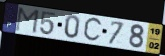0: (64, 14, 81, 40)
5: (39, 10, 57, 36)
7: (108, 20, 126, 46)
8: (128, 23, 146, 49)
C: (82, 17, 104, 44)
M: (13, 7, 40, 35)
